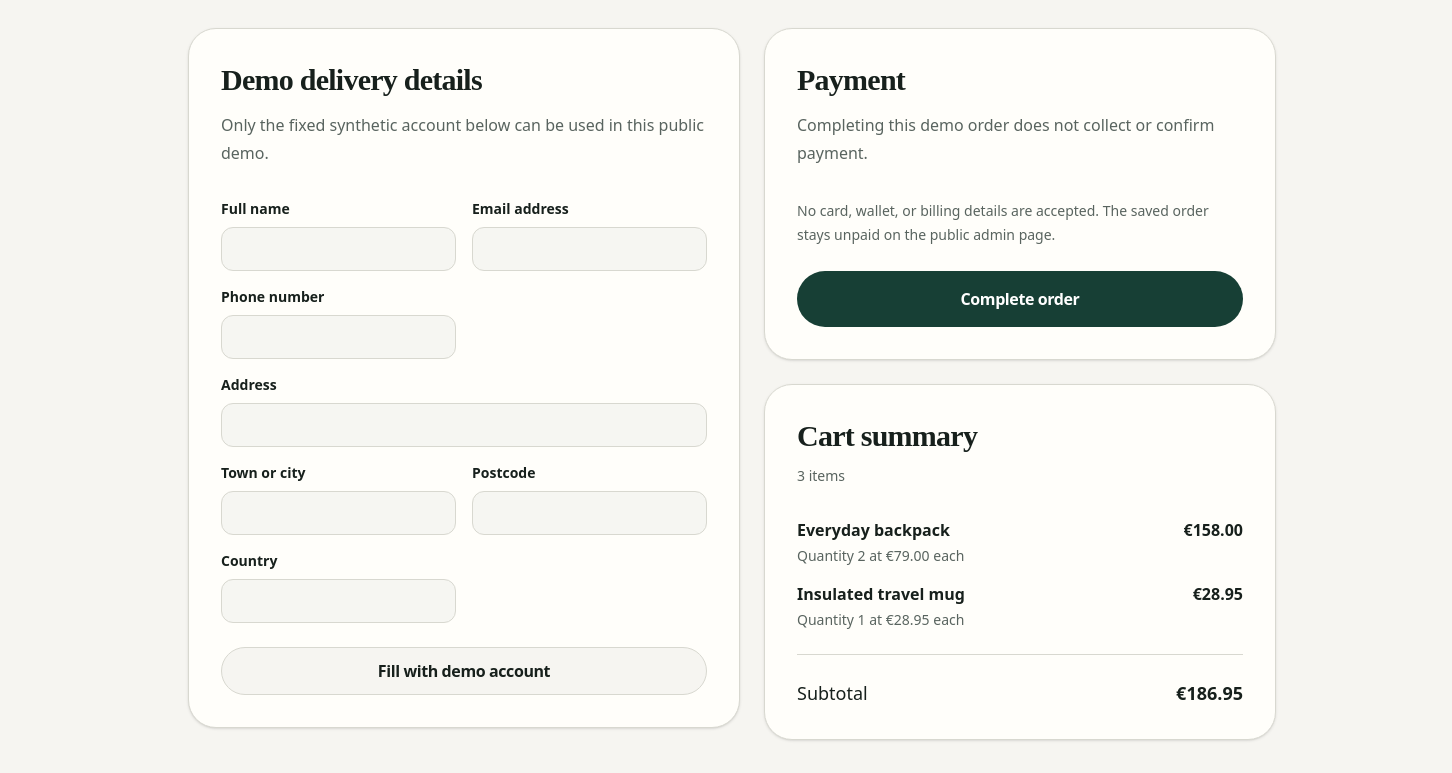
Scenario: CheckoutPage › preserves the form and cart on failure and reuses the key for a retry
(page scrolled)
Click the button "Fill with demo account".
click(464, 670)  # box [221,646,707,694]
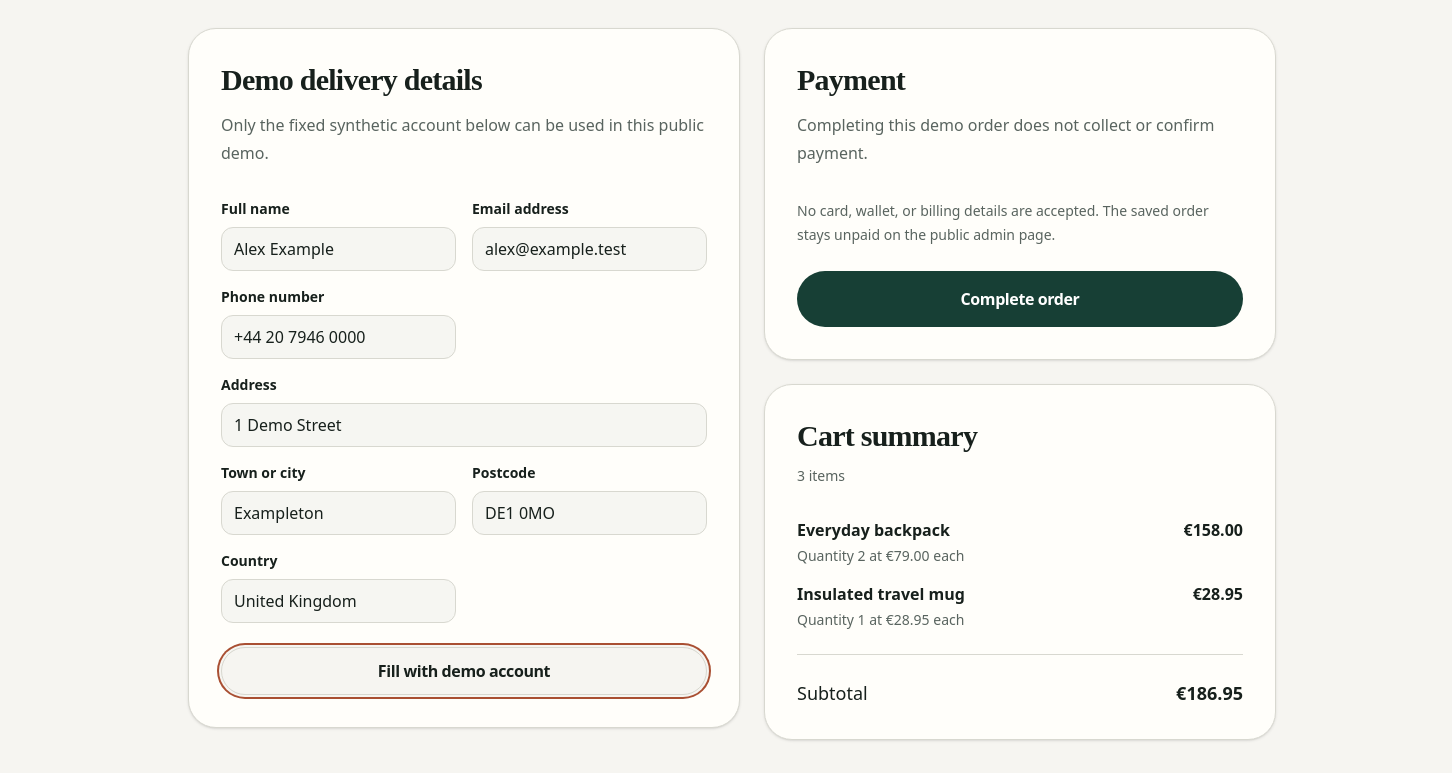
Click the button "Complete order".
click(1020, 298)  # box [797,270,1243,326]
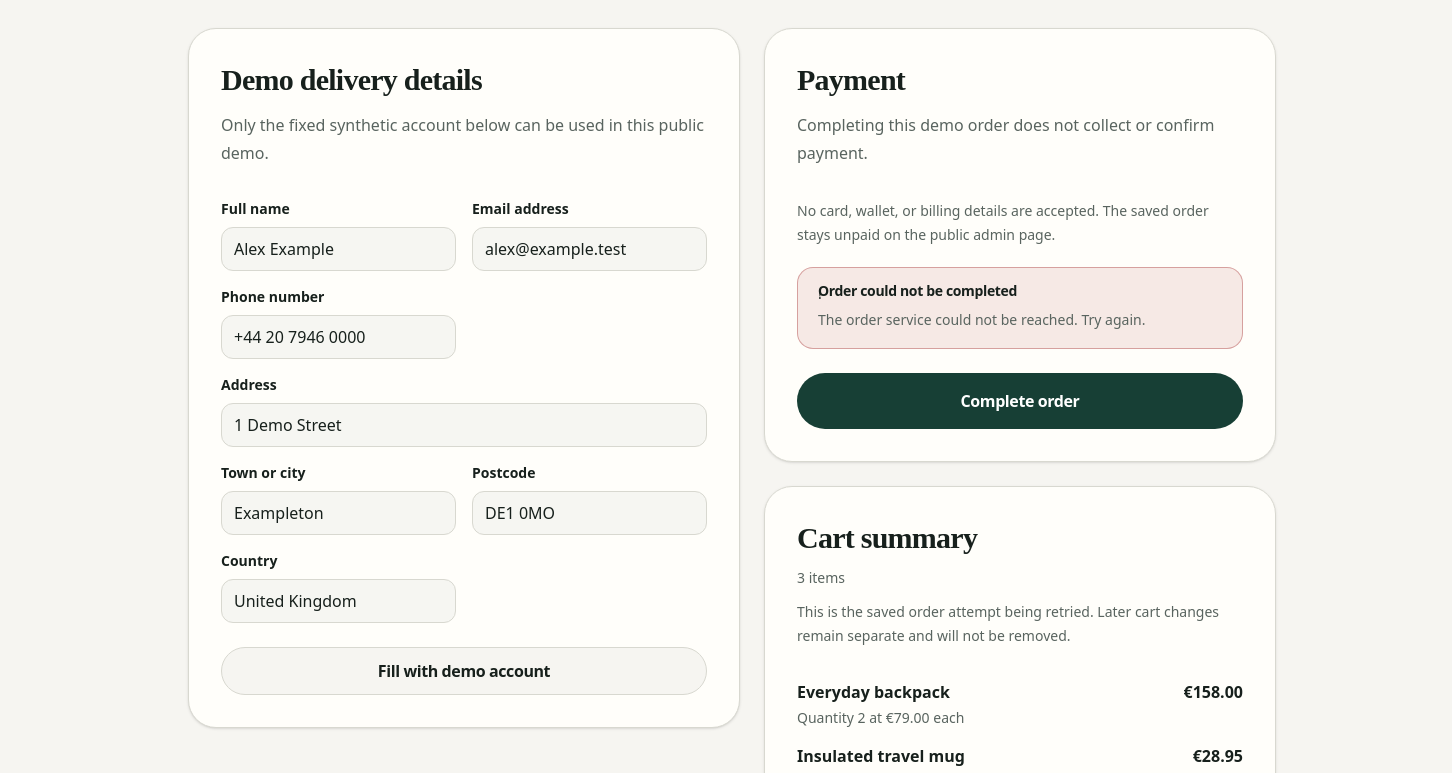
Expected: the field labelled "Full name" holds "Alex Example", [221,226,456,270]
Expected: the message shows "The order service could not be reached. Try again.", [818,310,1145,328]
Click the button "Complete order".
click(1020, 400)  # box [797,372,1243,428]
(page scrolled)
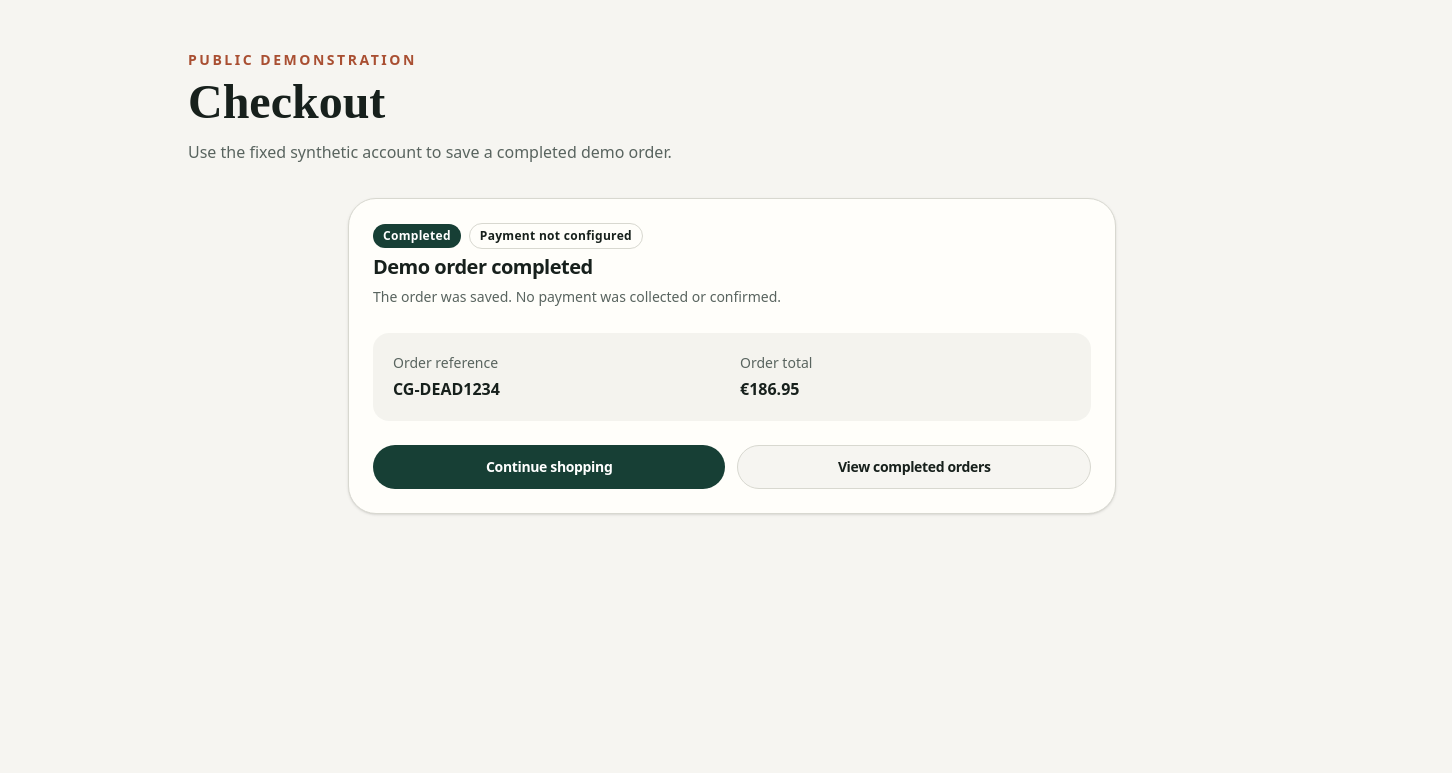
Expected: the heading "Demo order completed" is shown, [373,253,593,280]
